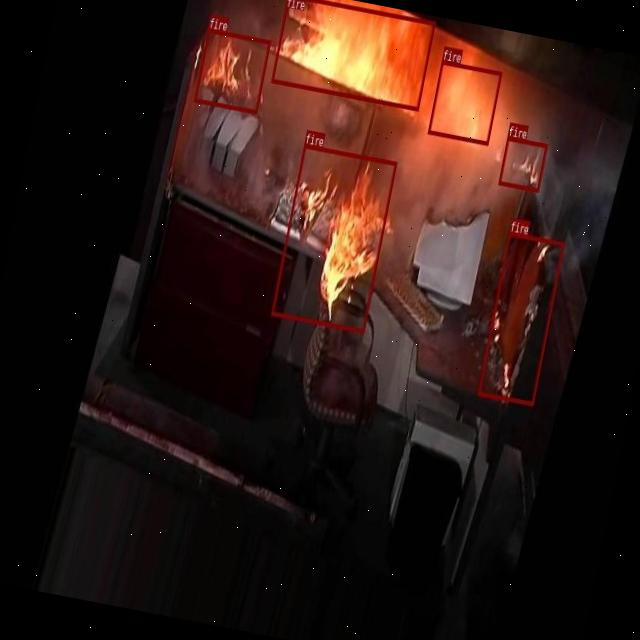fire: (271, 144, 397, 334), (271, 0, 436, 111), (478, 232, 564, 406), (194, 28, 272, 114), (428, 59, 502, 144), (498, 136, 548, 192)
